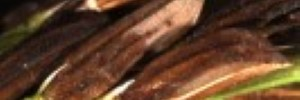RiceSheathBrownRot: (2, 3, 297, 96)
